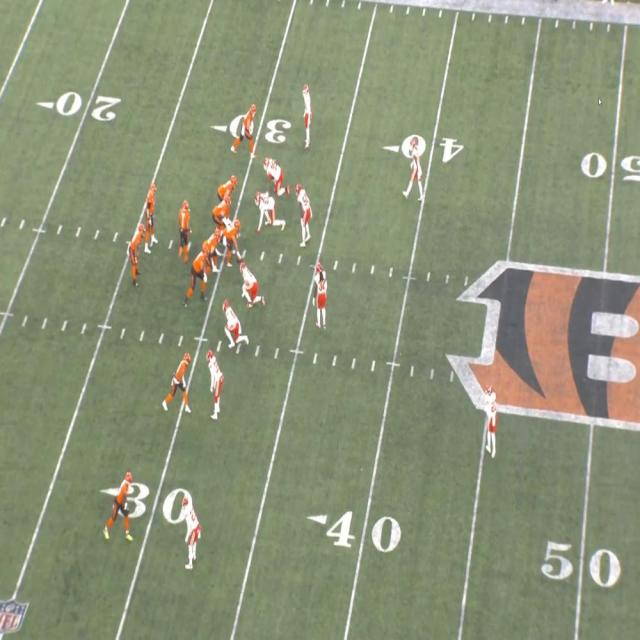center: (226, 218, 247, 256)
db: (480, 382, 500, 455), (182, 503, 200, 567), (206, 354, 224, 414), (408, 138, 422, 201), (302, 86, 311, 140)
lb: (298, 187, 314, 242), (316, 261, 330, 317)
qb: (146, 186, 156, 251)
skill: (108, 476, 136, 542), (166, 353, 192, 408), (234, 104, 256, 148), (129, 237, 142, 286), (180, 196, 189, 262)
